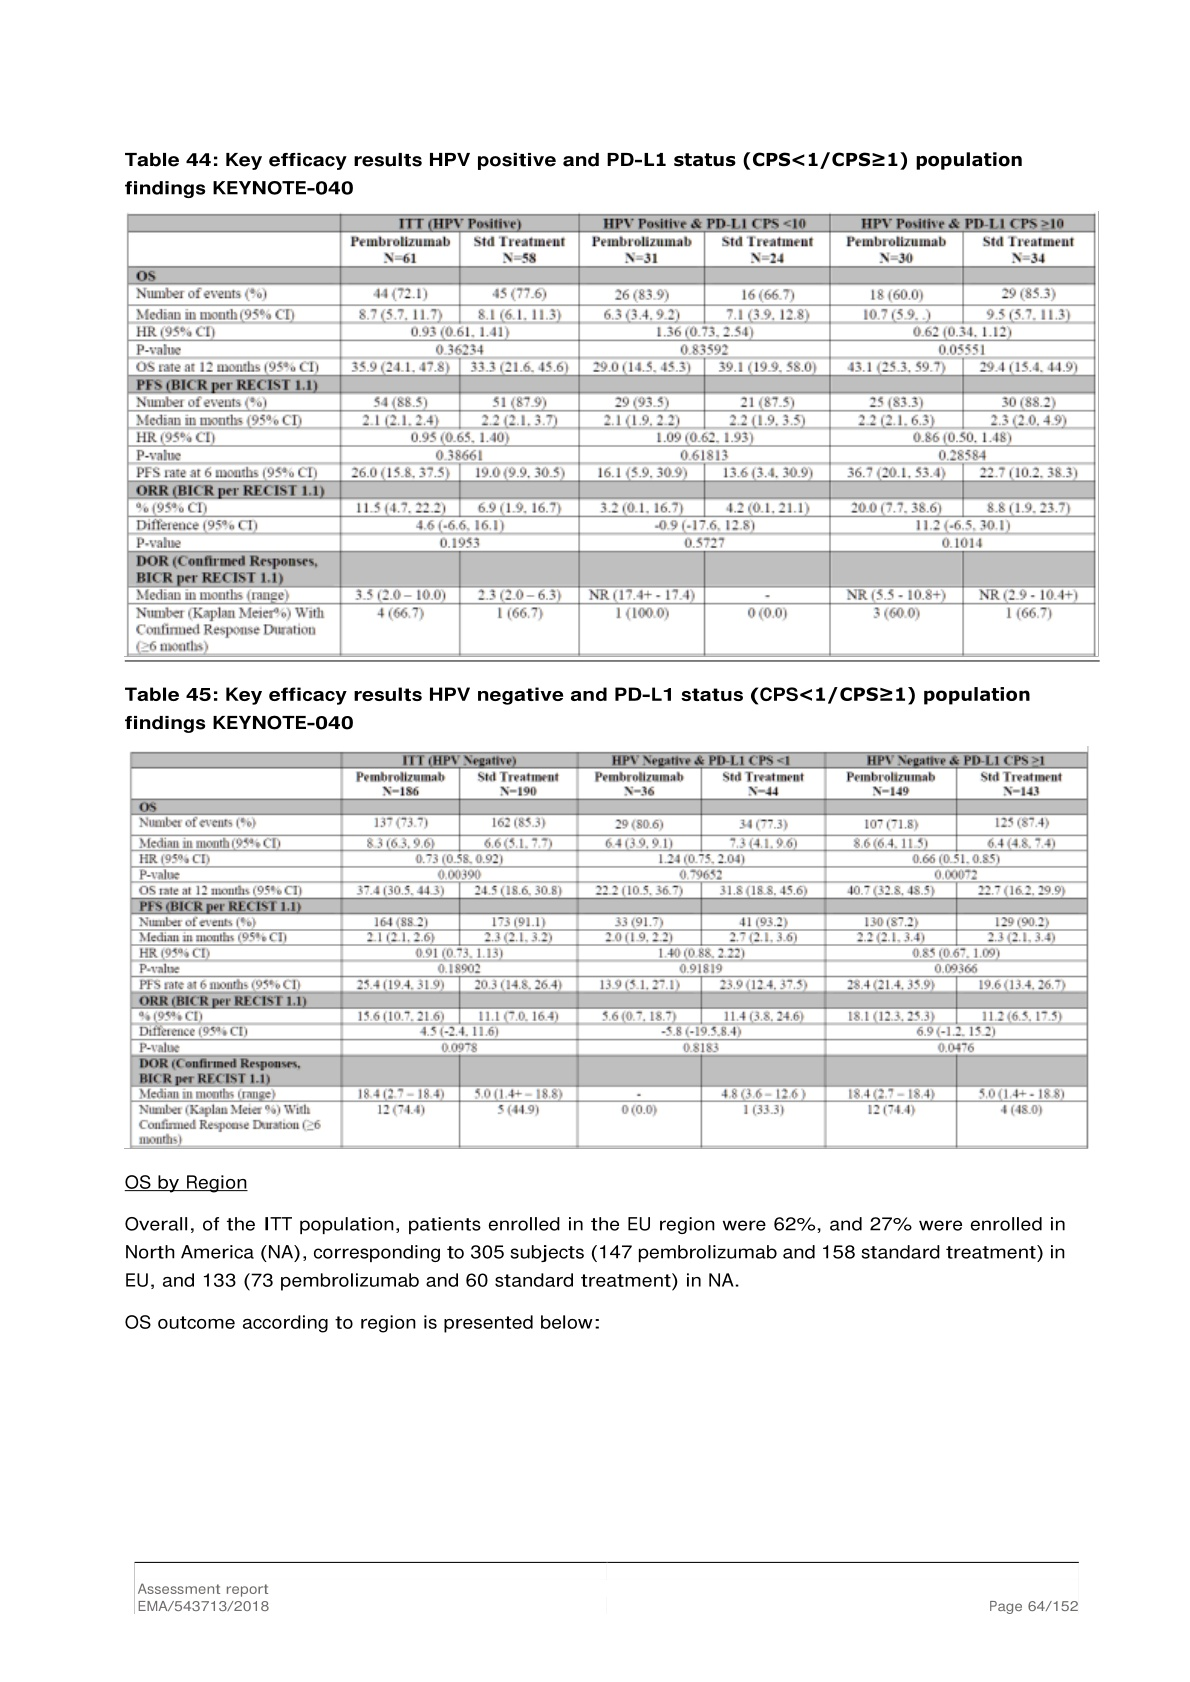merged_cells: (126, 214, 1096, 658), (129, 751, 1090, 1149)
